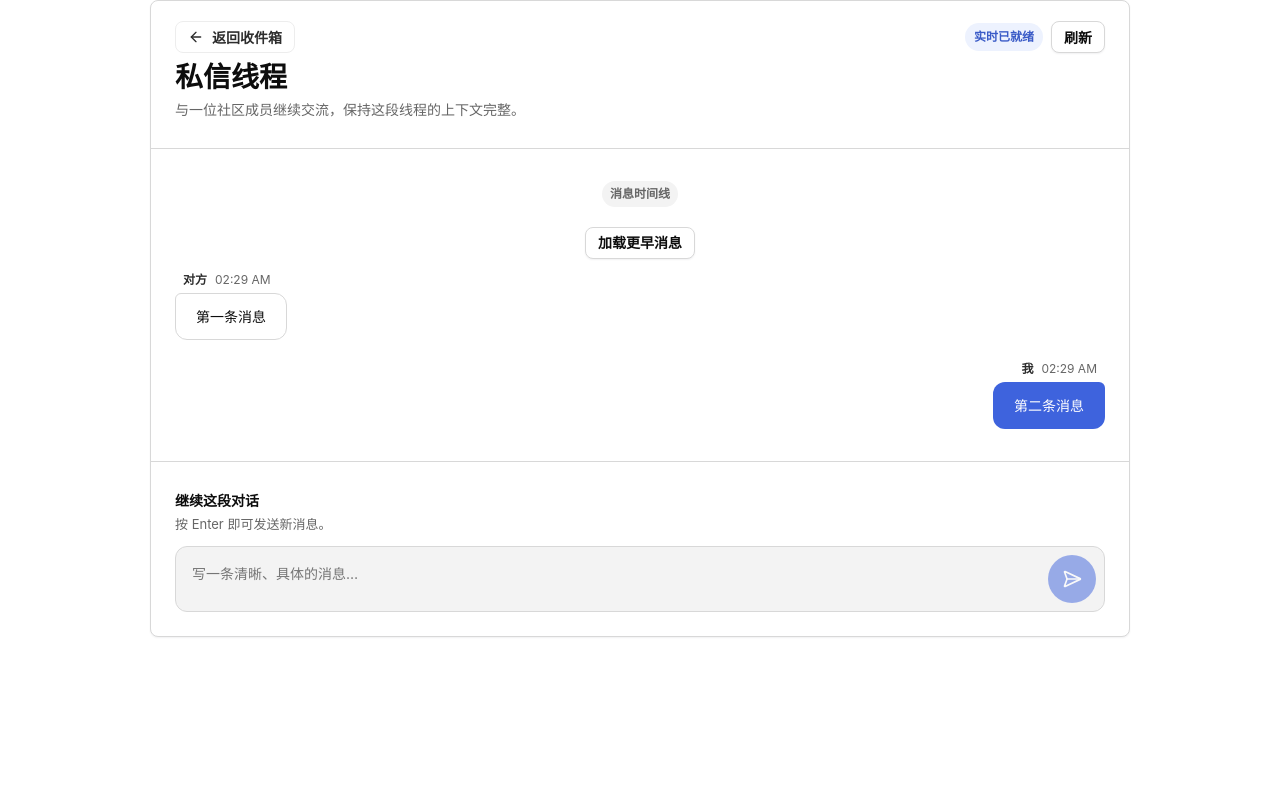
Test case: ConversationDetailView › clears the stale inline send error after a later send succeeds
This screenshot has width=1280, height=800.
Type "会被拒绝的消息" into the text box with placeholder "写一条清晰、具体的消息…" at (612, 579), box [184,555,1040,603]
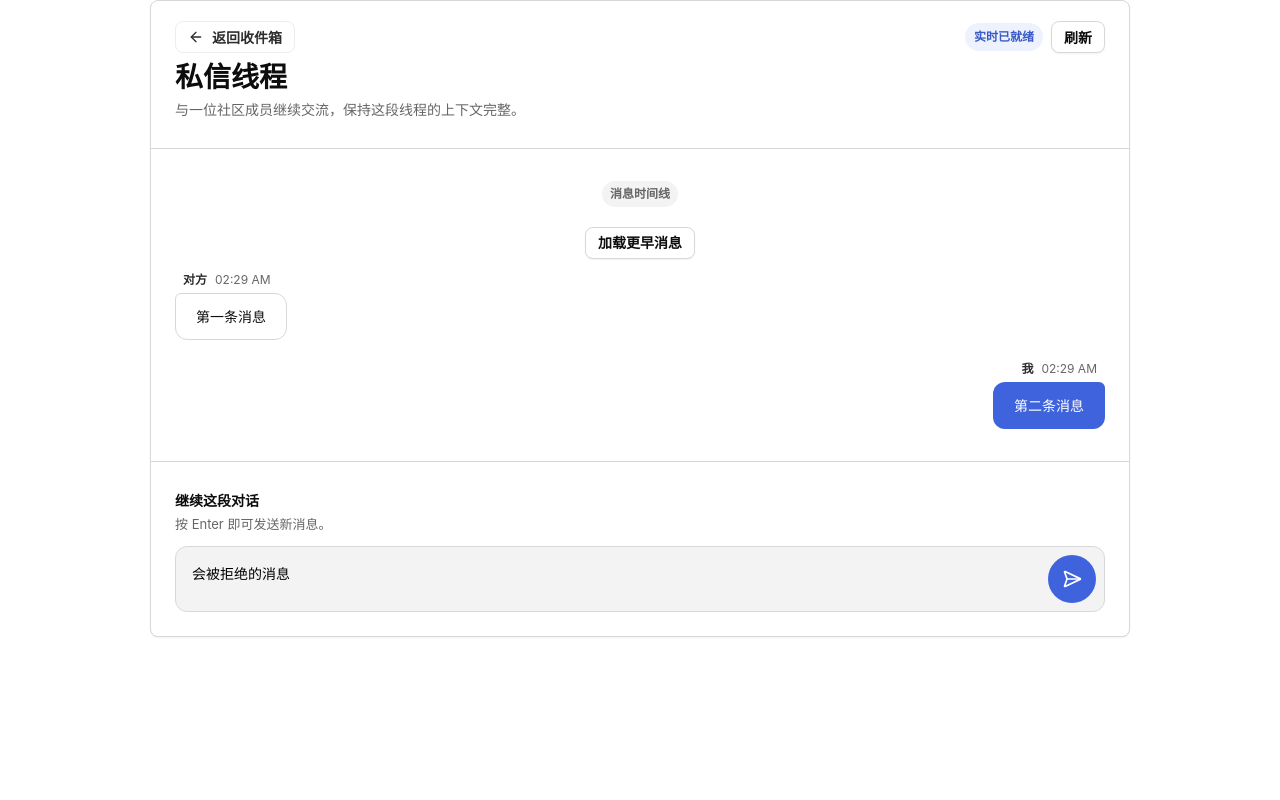
Click the button named "发送消息" at (1072, 579), box [1048,555,1096,603]
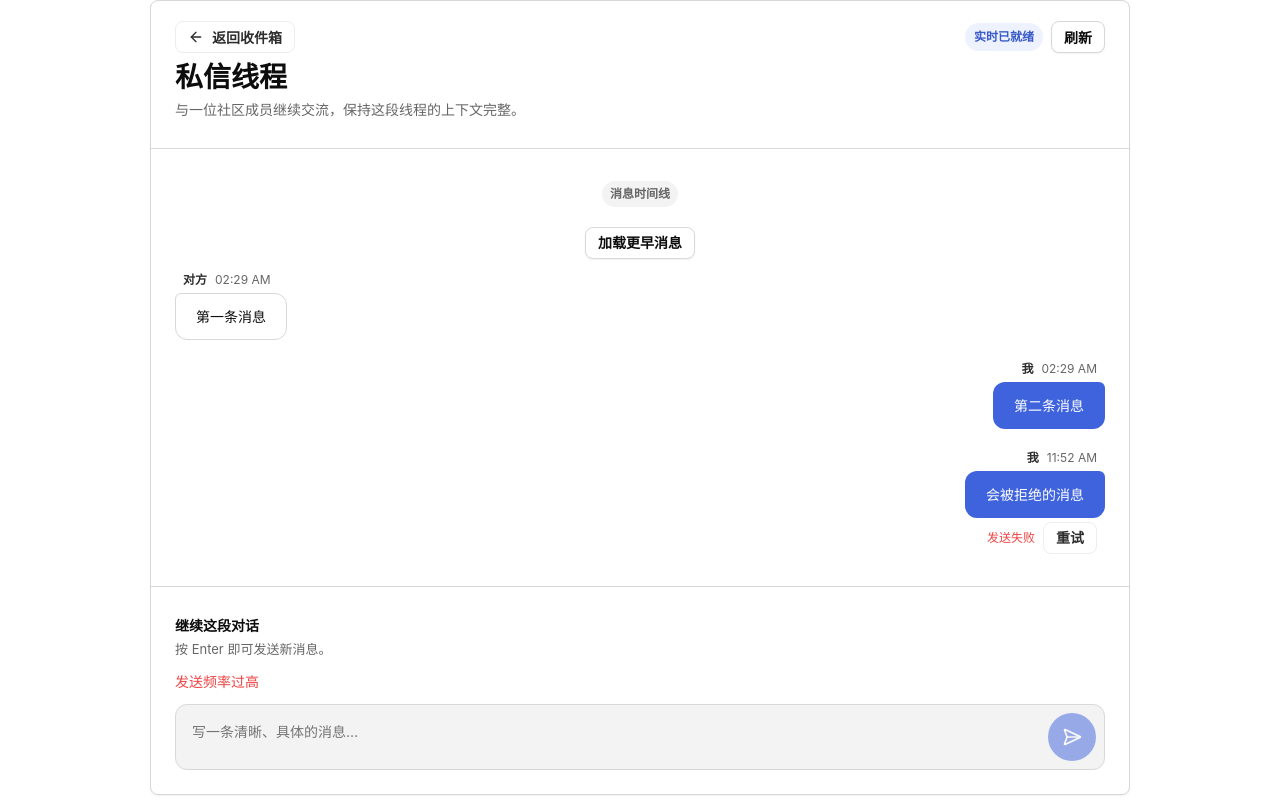
Check: the text with class "chat-inline-error" reads "发送频率过高", box [175,673,259,690]
Note: 下一次发送成功后，上一次残留的行内错误文案必须清除。
Type "随后成功的消息" into the text box with placeholder "写一条清晰、具体的消息…" at (612, 737), box [184,713,1040,761]
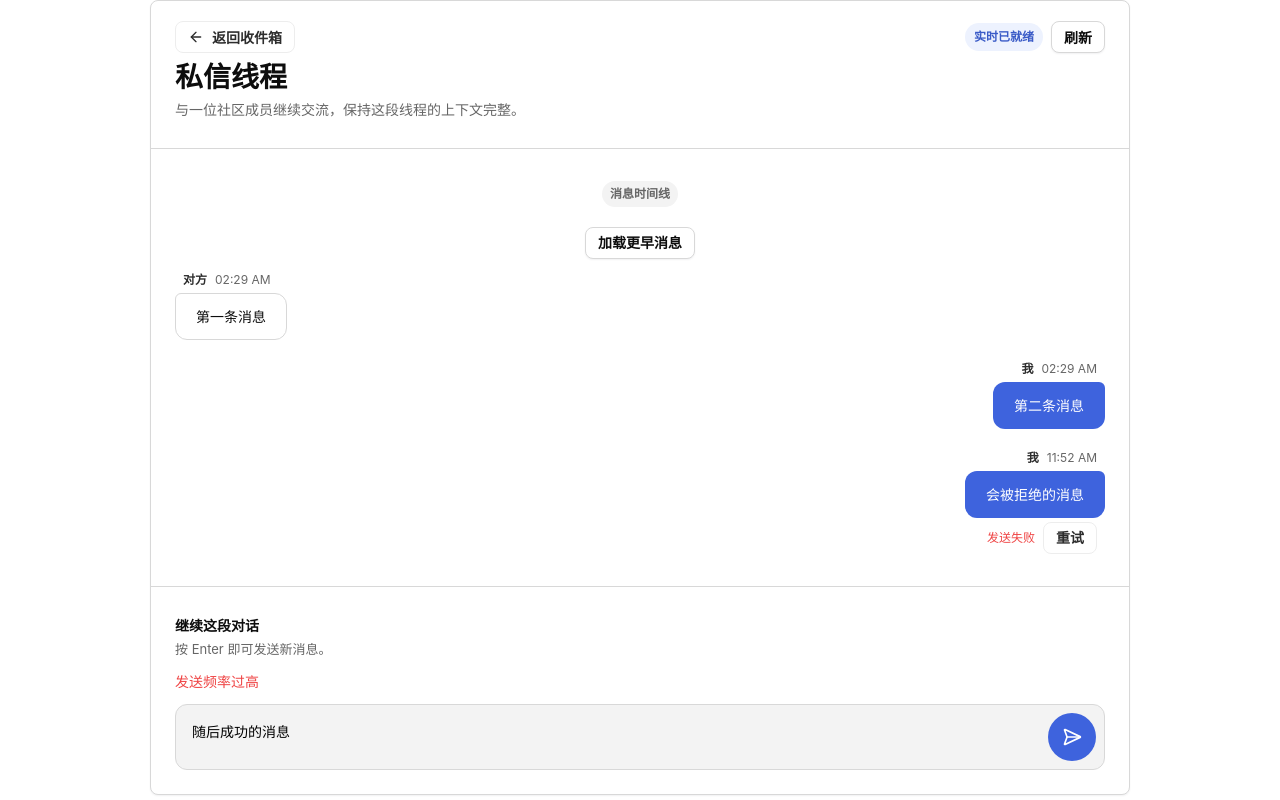
Click the button named "发送消息" at (1072, 737), box [1048,713,1096,761]
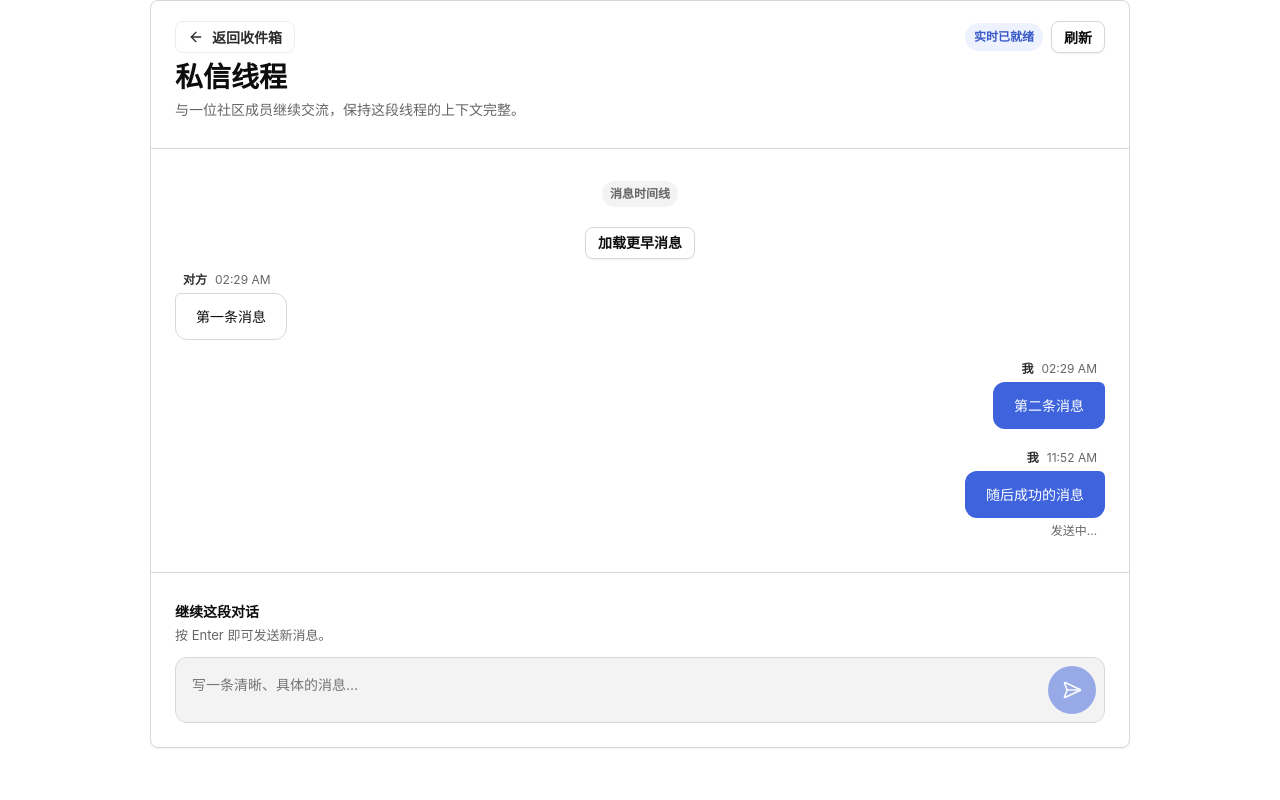
Check: the text "发送频率过高" is gone
Check: the text "随后成功的消息" is shown, box [965,471,1105,518]
